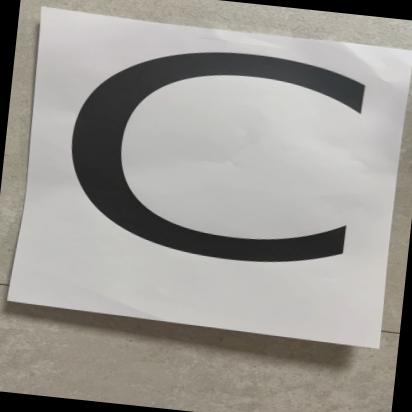seat: (12, 8, 406, 342)
